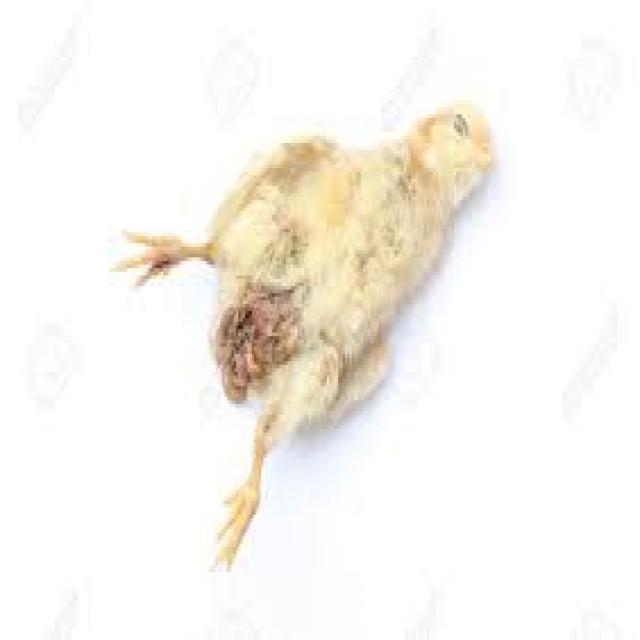poussin: (115, 85, 498, 568)
